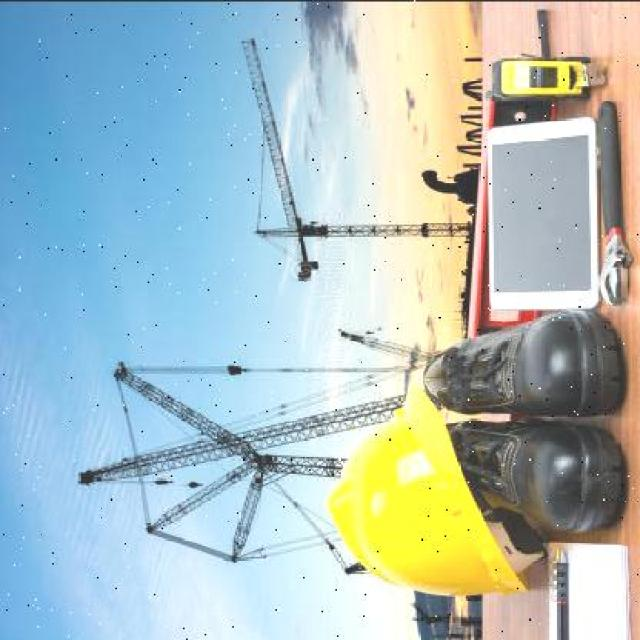shoes: (427, 310, 619, 412), (435, 420, 619, 509)
